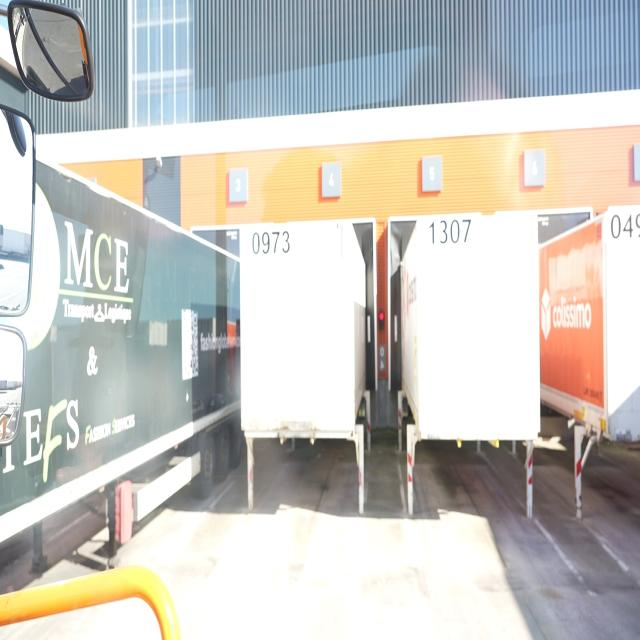Code: (423, 212, 477, 248), (249, 225, 293, 264)
